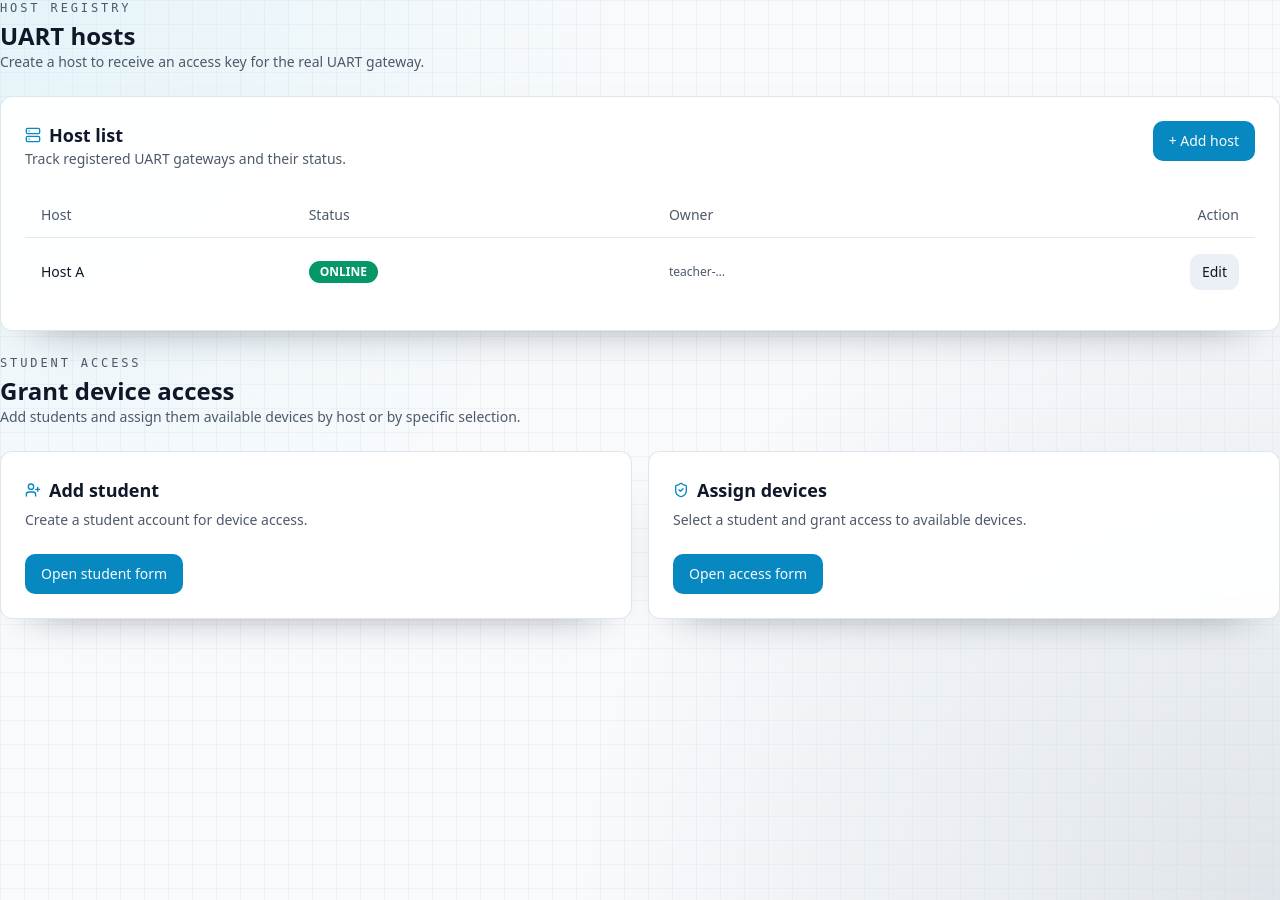
HostsPage › grants access to selected available devices
Expected: the text "Host A" is shown, x1=25 y1=237 x2=293 y2=306
Click the button "Open access form": [748, 574] box x1=673 y1=554 x2=823 y2=594
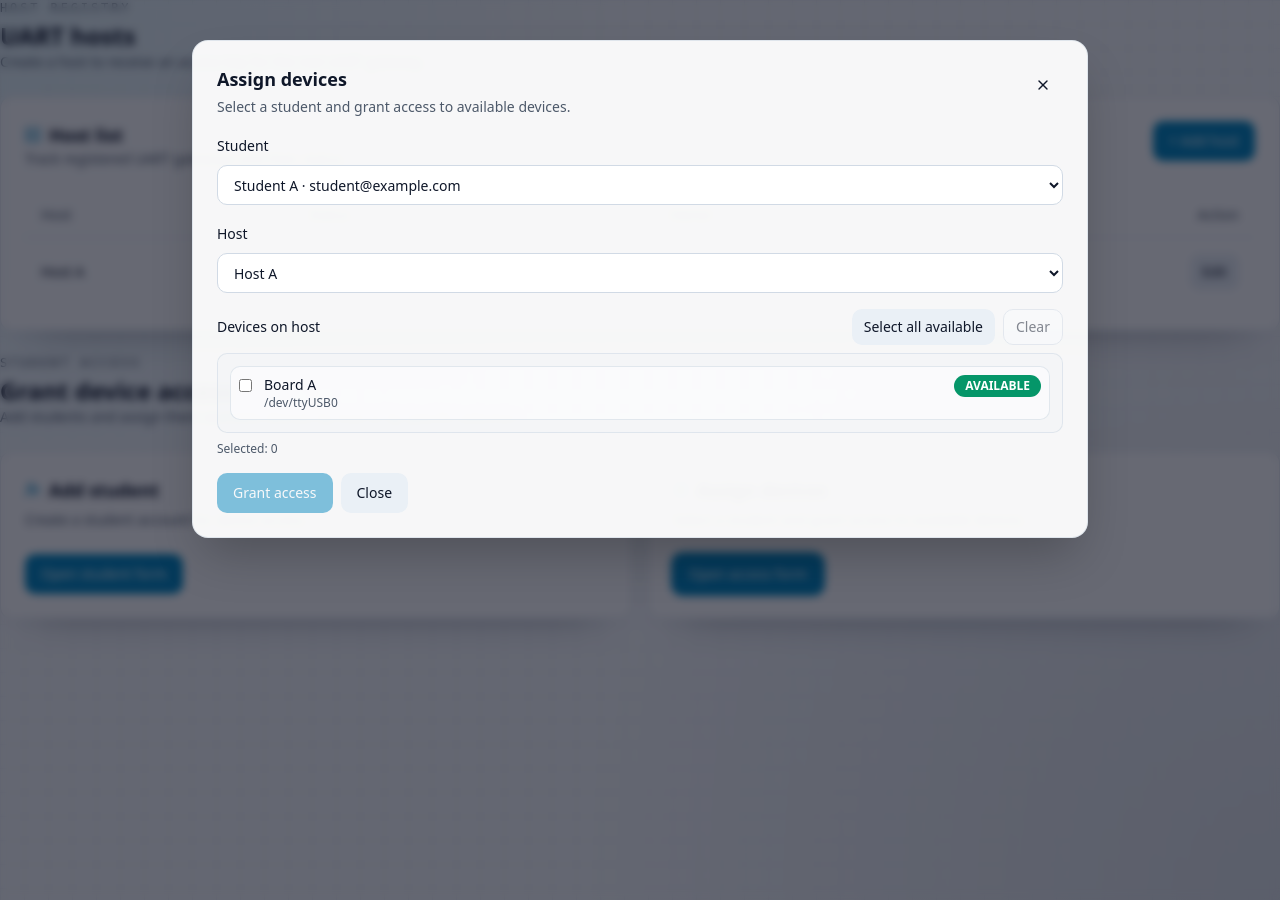
Click the button "Select all available": [923, 327] box x1=852 y1=309 x2=995 y2=345
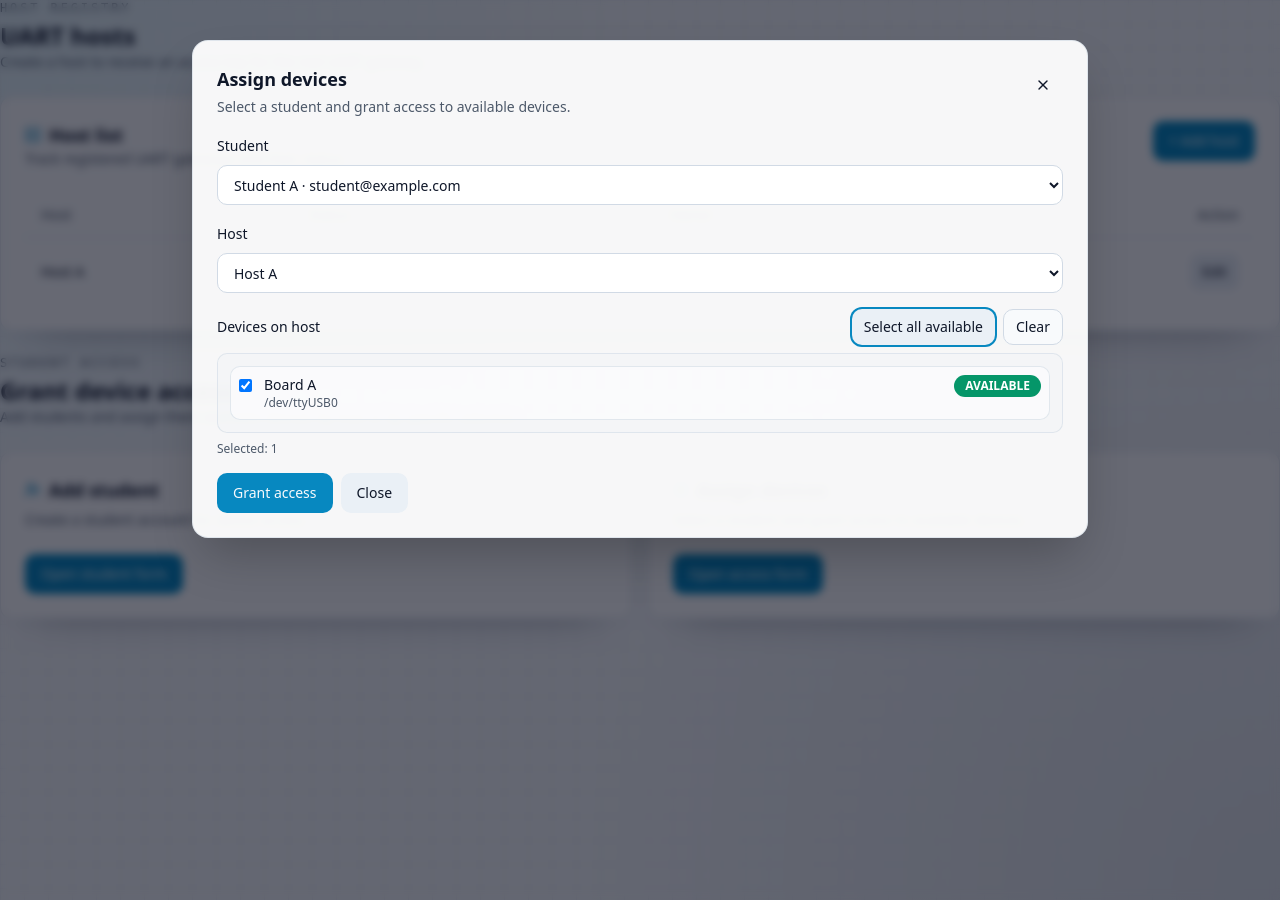
Click the button "Grant access": [275, 493] box x1=217 y1=473 x2=332 y2=513
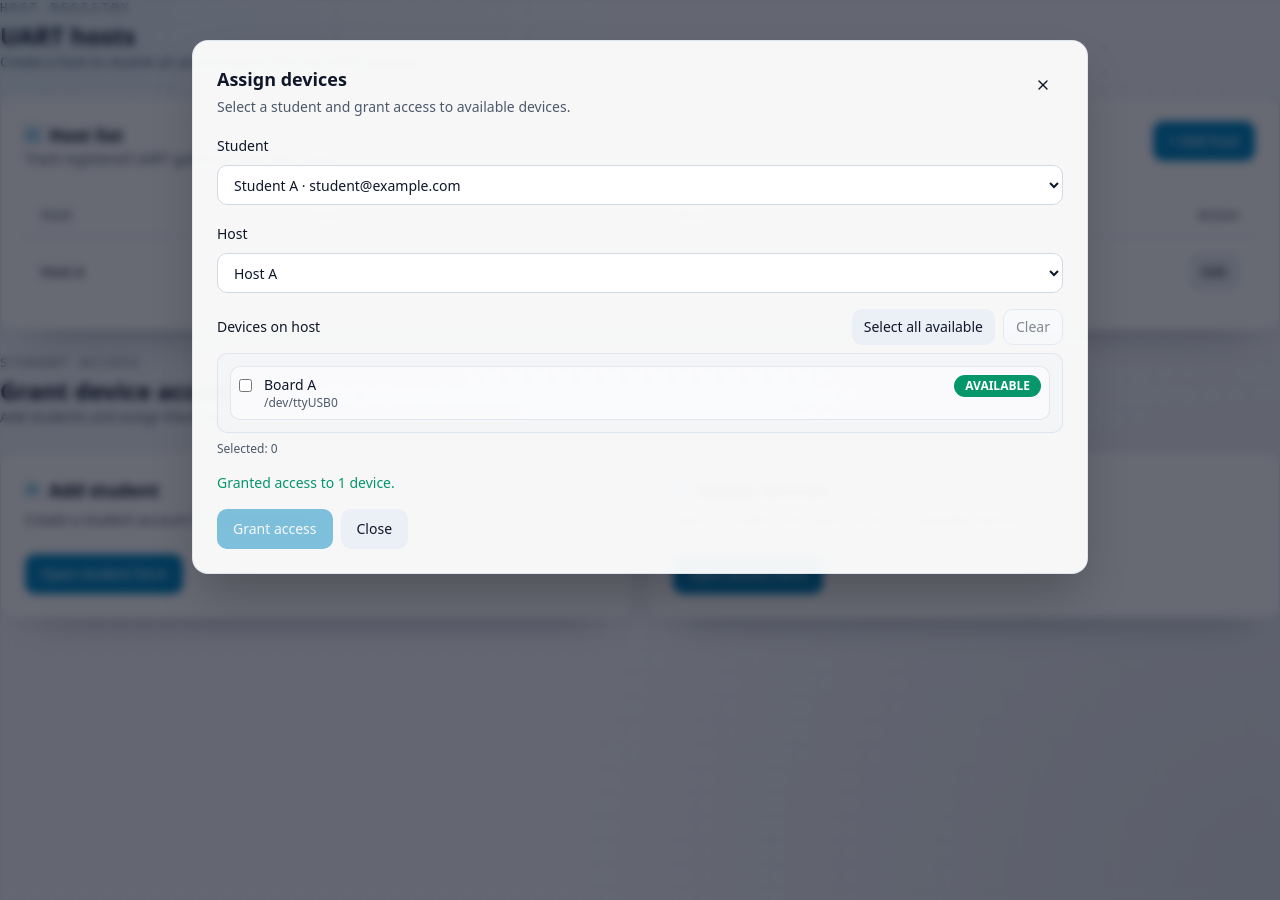
Expected: the text "Granted access to 1 device." is shown, x1=217 y1=473 x2=395 y2=492
